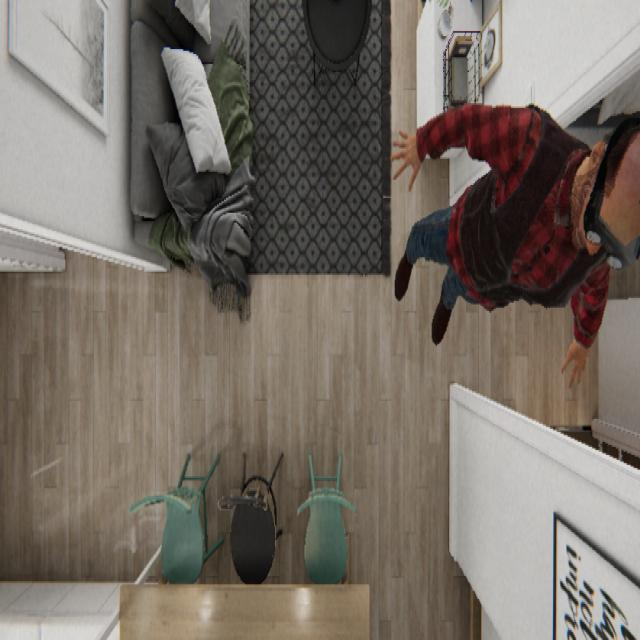Human: (390, 100, 638, 388)
